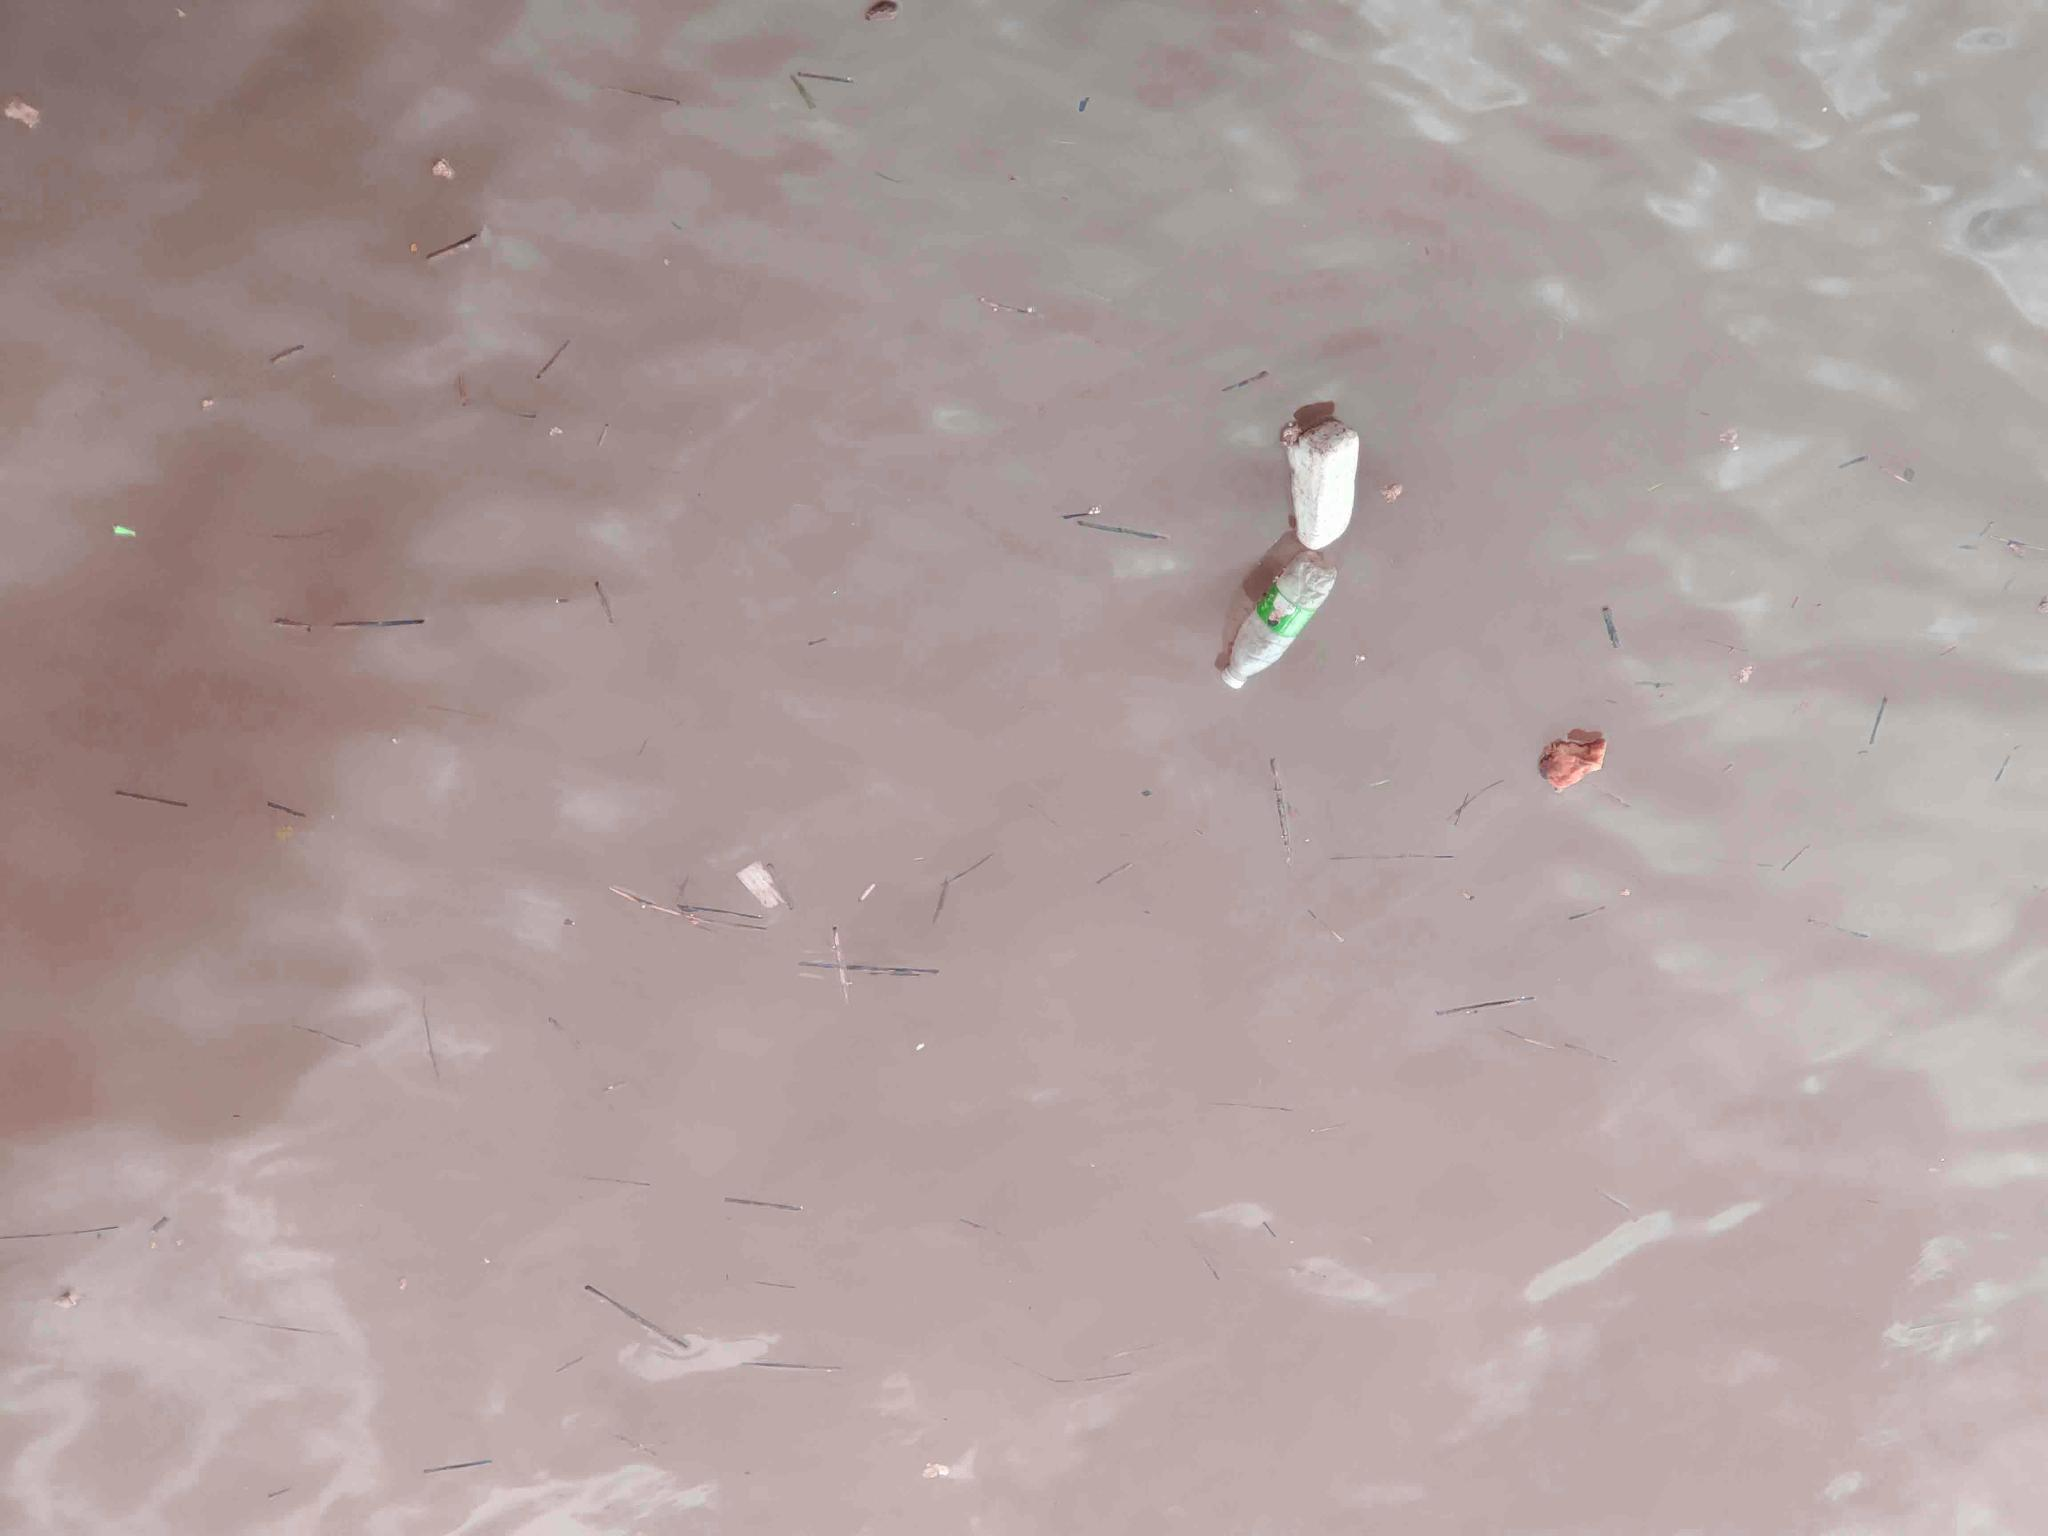Plastic: (1216, 552, 1335, 687)
Trash: (1287, 419, 1361, 542)
